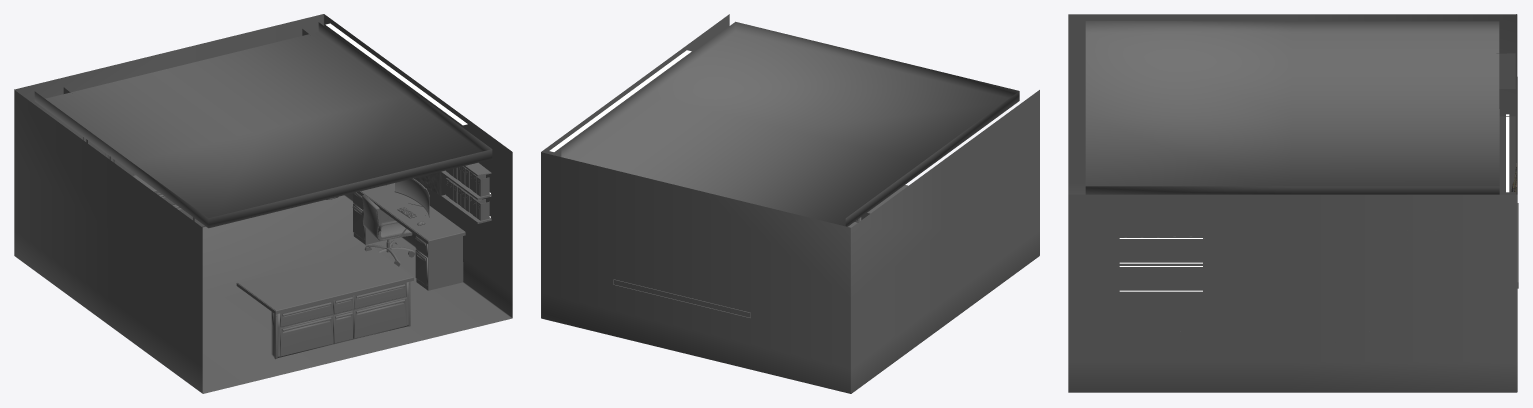
File: background2.glb
3 views of the same model, side by side, from view 1: azimuth 30°, elevation 25°; view 2: azimuth 150°, elevation 25°; view 3: azimuth 270°, elevation 25° (orthographic). The views are drawn at different scales.
Parts seen in each view (by area): view 1: ENV-baked; view 2: ENV-baked; view 3: ENV-baked.
Boxes of the visible parts, box(x1,y1,x2,y2) form: ENV-baked: box(14, 14, 512, 393); ENV-baked: box(541, 14, 1039, 393); ENV-baked: box(1068, 14, 1518, 392).
Bounding box in the file's own units: 8.3 × 4.28 × 8.74.
Materials: 8 (1 with a texture image).
